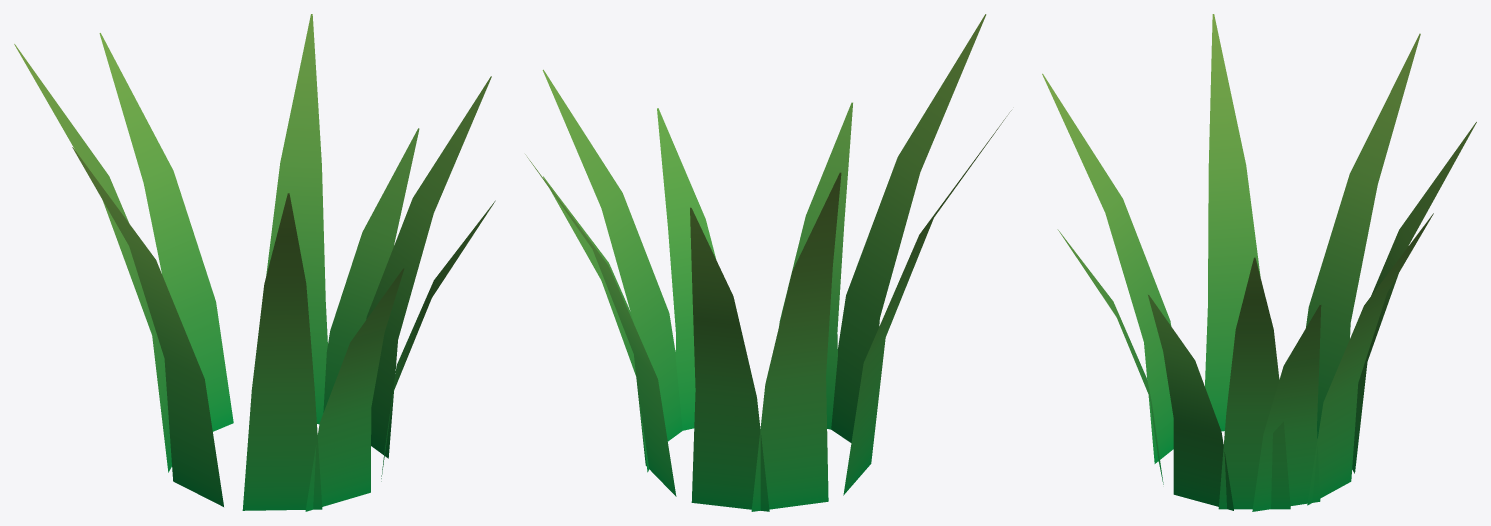
The model's file is grass_reference.glb.
The picture shows the model from 3 angles, left to right: view 1: azimuth 30°, elevation 25°; view 2: azimuth 150°, elevation 25°; view 3: azimuth 270°, elevation 25°; orthographic projection. The views are drawn at different scales.
Visible parts, largest first — view 1: grass_reference; view 2: grass_reference; view 3: grass_reference.
Boxes of the visible parts, left/top/right/bottom form: grass_reference: left=14, top=14, right=495, bottom=511; grass_reference: left=525, top=14, right=1011, bottom=511; grass_reference: left=1042, top=14, right=1476, bottom=511.
Size of the model in its own units: 0.5885 by 0.5058 by 0.5545.
